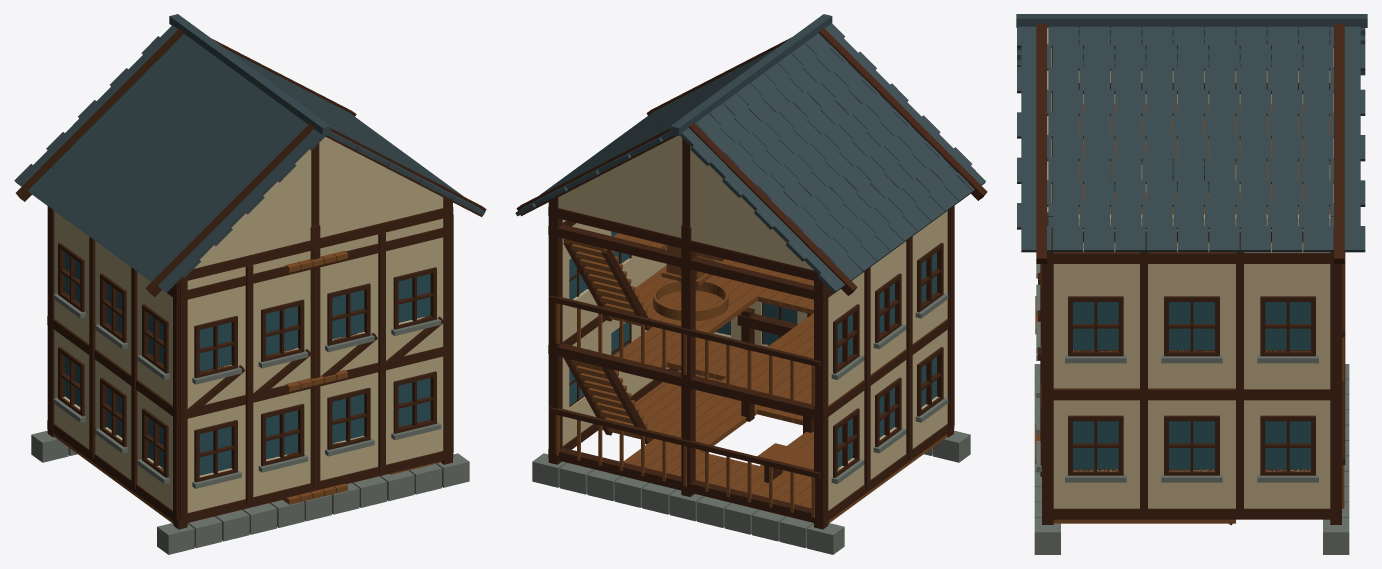
The model's file is building.obj.
The picture shows the model from 3 angles, left to right: view 1: azimuth 30°, elevation 25°; view 2: azimuth 150°, elevation 25°; view 3: azimuth 270°, elevation 25°; orthographic projection. The views are drawn at different scales.
Visible parts, largest first — view 1: building_timber, building_plaster, building_roof, building_stone, building_glass, building_wood; view 2: building_timber, building_roof, building_wood, building_plaster, building_stone, building_glass; view 3: building_roof, building_plaster, building_timber, building_glass, building_stone, building_wood.
Part boxes in pixels (bbox=[...]): building_timber: bbox=[16, 28, 486, 529]; building_plaster: bbox=[54, 137, 443, 512]; building_roof: bbox=[14, 14, 485, 292]; building_stone: bbox=[31, 293, 469, 554]; building_glass: bbox=[64, 252, 430, 475]; building_wood: bbox=[54, 250, 441, 523]; building_timber: bbox=[516, 27, 987, 529]; building_roof: bbox=[515, 14, 985, 293]; building_wood: bbox=[555, 233, 947, 523]; building_plaster: bbox=[558, 136, 947, 510]; building_stone: bbox=[532, 293, 970, 554]; building_glass: bbox=[569, 231, 936, 468]; building_roof: bbox=[1016, 14, 1367, 252]; building_plaster: bbox=[1047, 28, 1333, 508]; building_timber: bbox=[1036, 24, 1345, 525]; building_glass: bbox=[1073, 165, 1310, 469]; building_stone: bbox=[1034, 264, 1349, 554]; building_wood: bbox=[1035, 103, 1344, 523].
Size of the model in its own units: 7.1 by 8 by 5.6.
